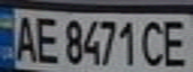1: (115, 17, 142, 66)
4: (81, 16, 103, 66)
7: (100, 17, 121, 66)
8: (60, 16, 84, 65)
A: (9, 11, 39, 63)
C: (139, 16, 172, 69)
E: (157, 16, 193, 69), (30, 12, 60, 65)
